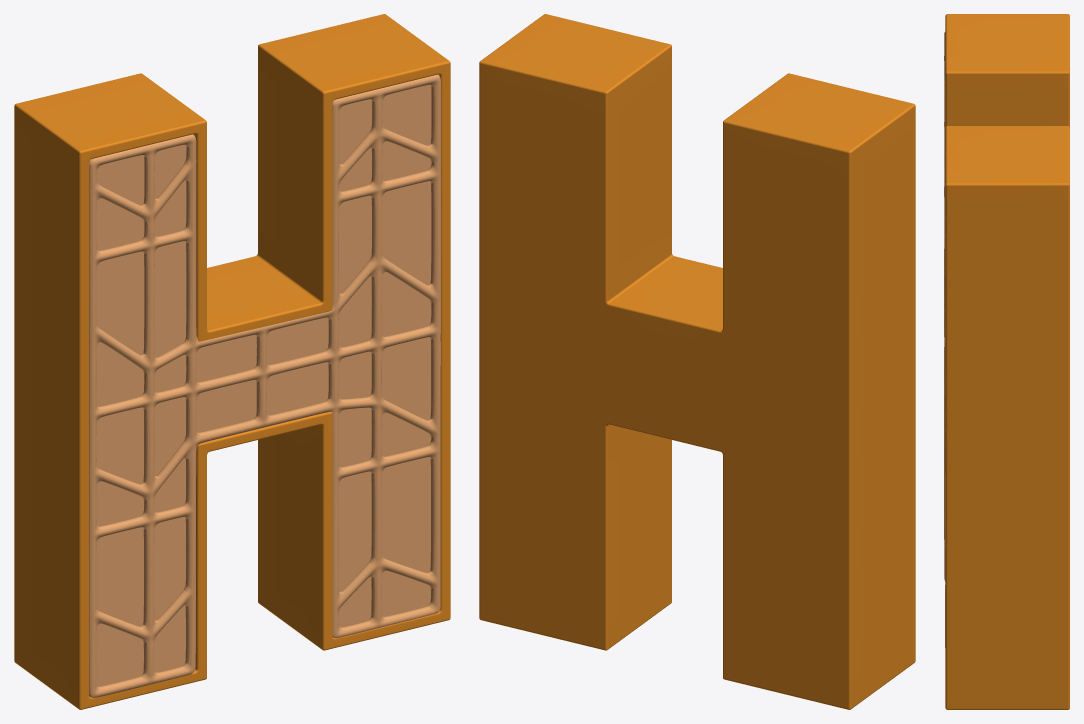
The model's file is H_nuevo.glb.
3 renders of one model, left to right at view 1: azimuth 30°, elevation 25°; view 2: azimuth 150°, elevation 25°; view 3: azimuth 270°, elevation 25°, orthographic. The views are drawn at different scales.
Parts seen in each view (by area): view 1: Text.009, Plane.008, Plane.033; view 2: Text.009; view 3: Text.009, Plane.033.
Part boxes in pixels (<box>): Text.009: <box>14,14,450,709</box>; Plane.008: <box>96,85,431,686</box>; Plane.033: <box>89,74,440,697</box>; Text.009: <box>479,14,915,709</box>; Text.009: <box>945,14,1069,709</box>; Plane.033: <box>944,32,945,647</box>.
Size of the model in its own units: 2.51 by 3.6 by 0.7817.
